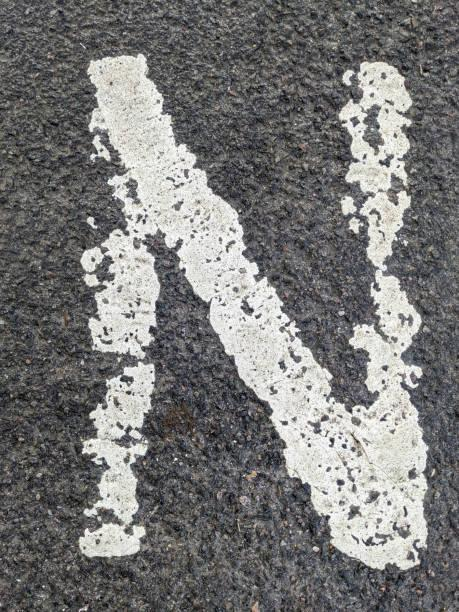faded_road_lines: (77, 51, 432, 571)
